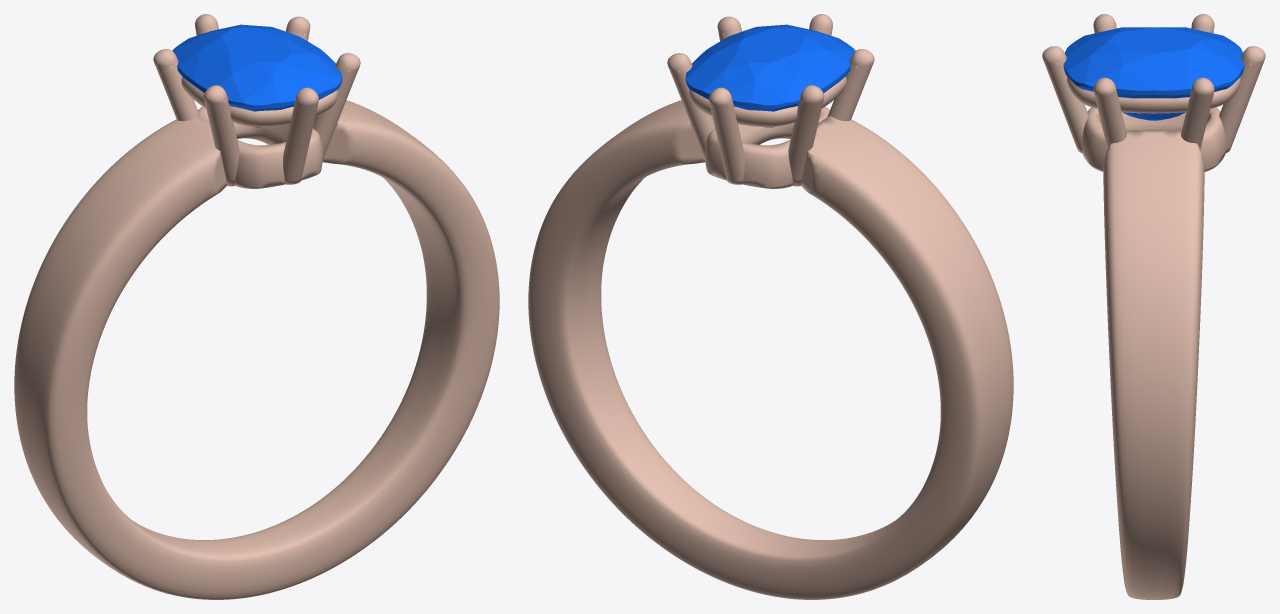
The model's file is bluesapphire-cushion-rosegold-6prong-straighttaperedband-nosidestones.glb.
The picture shows the model from 3 angles, left to right: view 1: azimuth 30°, elevation 25°; view 2: azimuth 150°, elevation 25°; view 3: azimuth 270°, elevation 25°; orthographic projection.
Visible parts, largest first — view 1: metal.002, stone; view 2: metal.002, stone; view 3: metal.002, stone.
Part boxes in pixels (<box>): metal.002: <box>14,14,499,599</box>; stone: <box>172,24,342,127</box>; metal.002: <box>528,14,1013,599</box>; stone: <box>685,24,855,127</box>; metal.002: <box>1042,14,1265,599</box>; stone: <box>1063,27,1244,120</box>.
Size of the model in its own units: 20.48 by 23.24 by 8.8.
